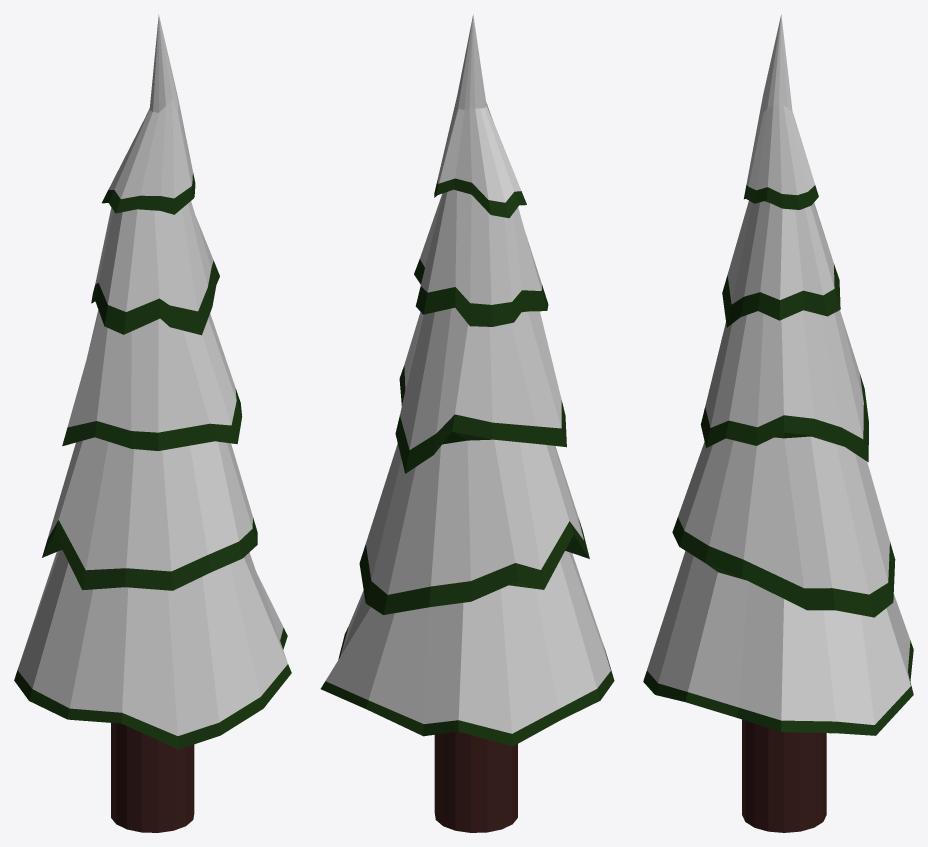
The model's file is TanneAsym2b.fbx.
3 renders of one model, left to right at view 1: azimuth 30°, elevation 25°; view 2: azimuth 150°, elevation 25°; view 3: azimuth 270°, elevation 25°, orthographic.
Parts seen in each view (by area): view 1: TanneAsym2.001; view 2: TanneAsym2.001; view 3: TanneAsym2.001.
Boxes of the visible parts, <box> form: TanneAsym2.001: <box>14,14,291,832</box>; TanneAsym2.001: <box>320,14,614,832</box>; TanneAsym2.001: <box>643,15,913,832</box>.
Size of the model in its own units: 575 by 1711 by 522.
